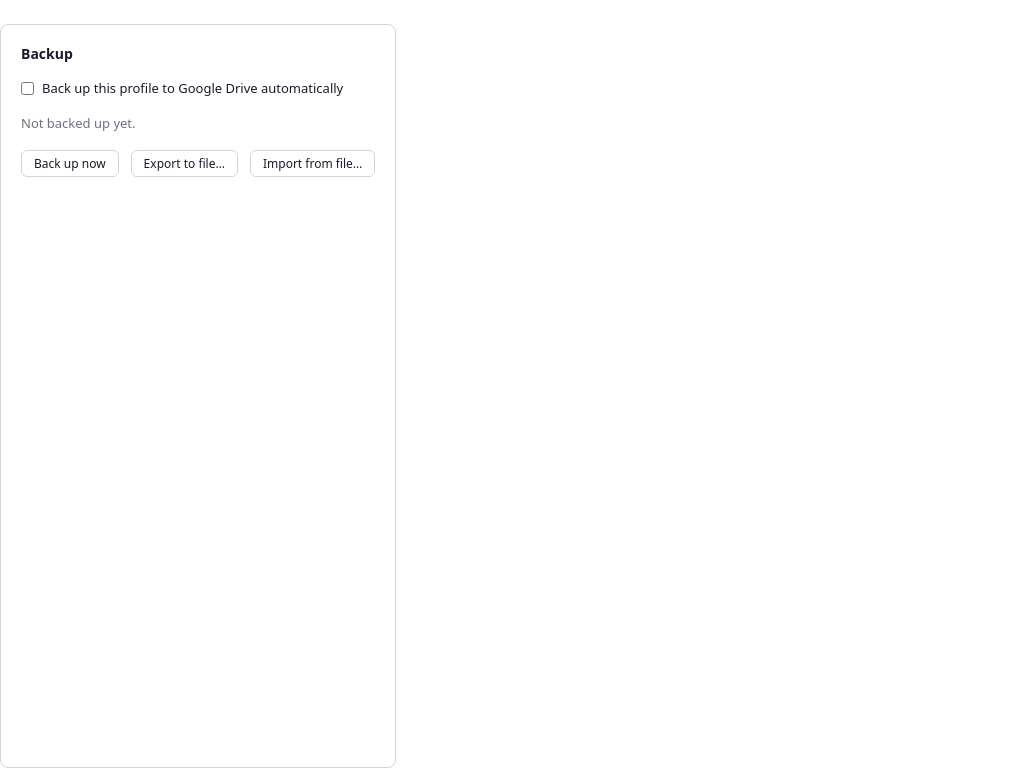
Test: BackupSection — import from file › confirm: destructive dialog opens, then the picked file is imported
Click the button "Import from file…" at point(313, 163), box x1=250 y1=150 x2=375 y2=176
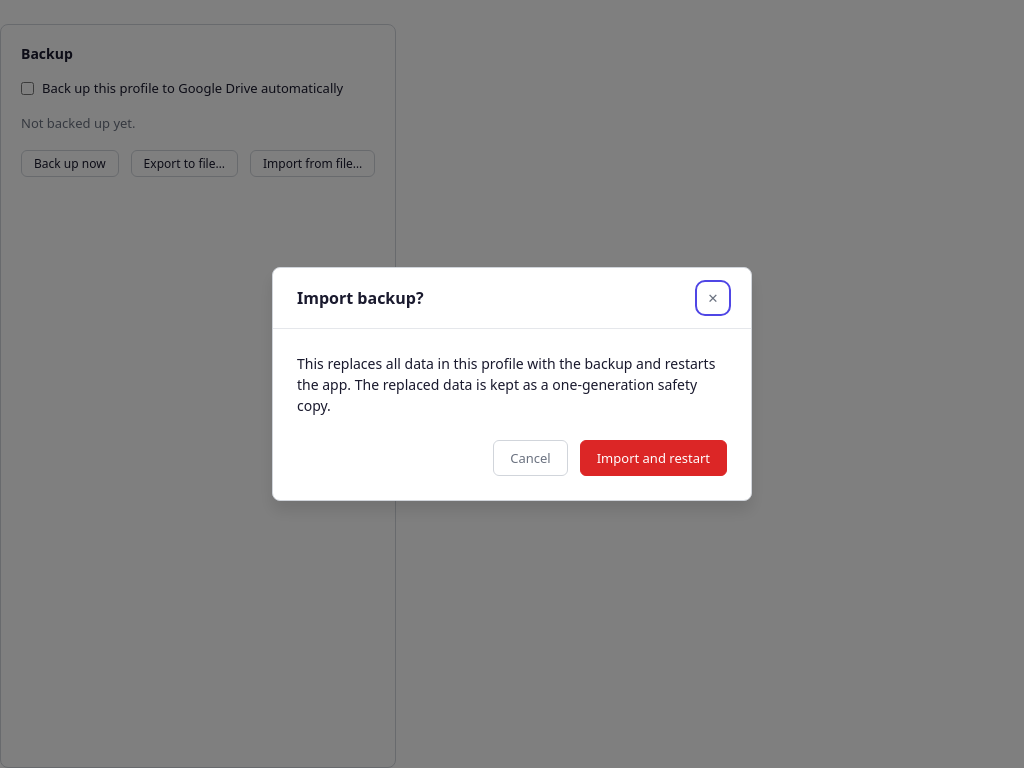
Now the dialog is shown, box x1=272 y1=267 x2=752 y2=501
Click the button "Import and restart" at point(653, 458), box x1=580 y1=440 x2=727 y2=476
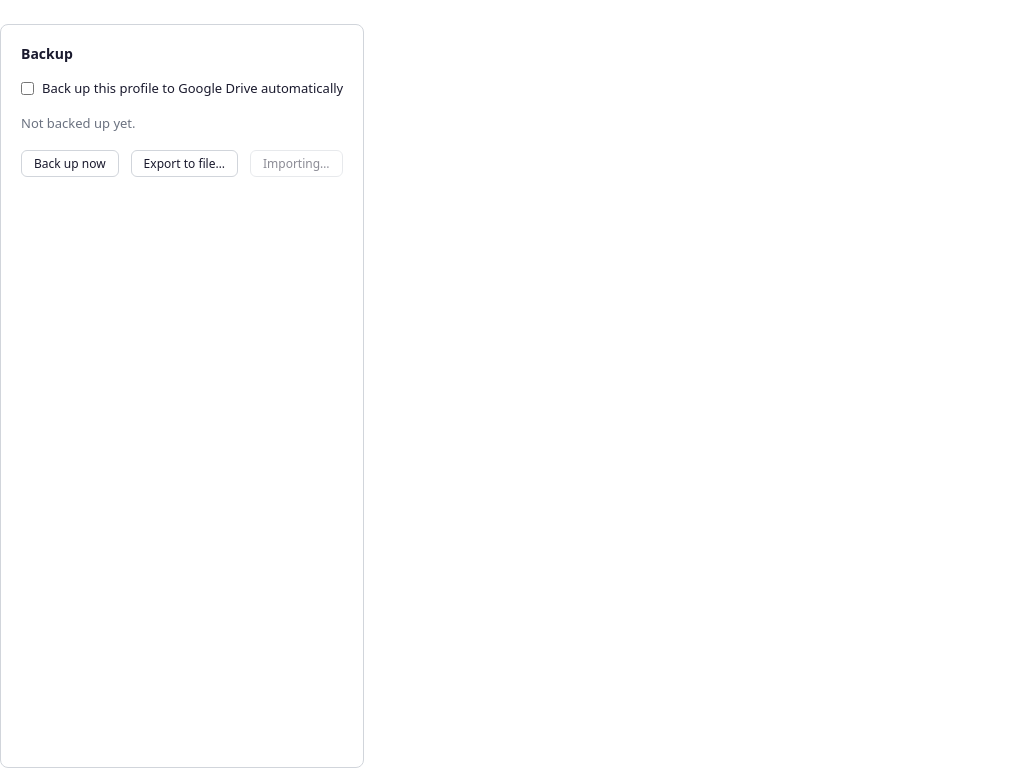
Now the dialog is gone
